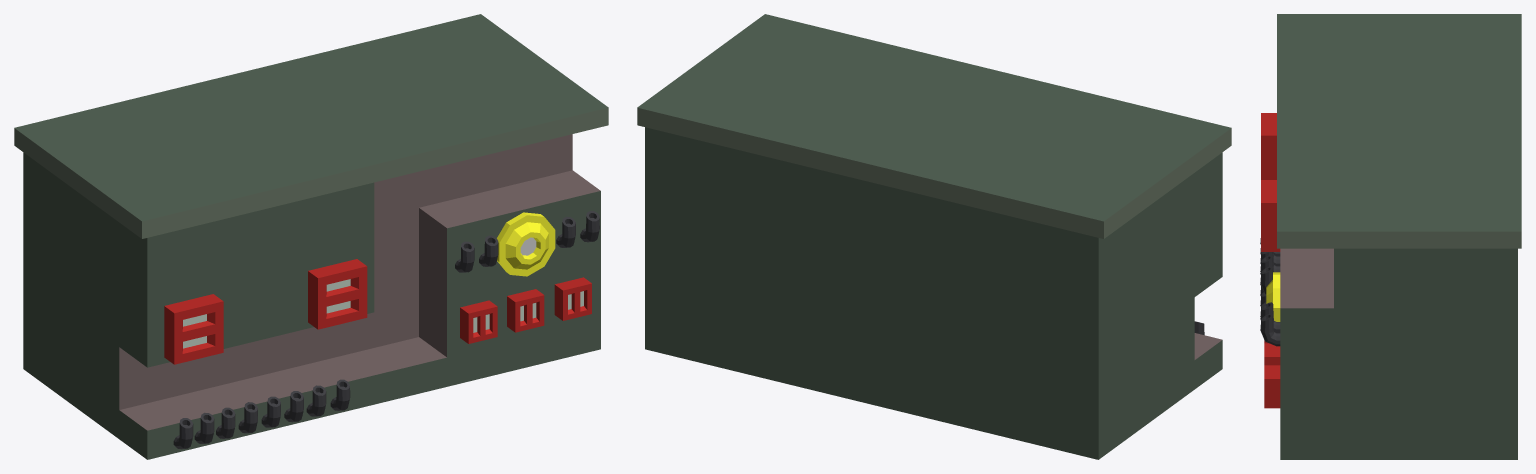
Rendered from HouseBlock8.fbx.
The picture shows the model from 3 angles, left to right: view 1: azimuth 30°, elevation 25°; view 2: azimuth 150°, elevation 25°; view 3: azimuth 270°, elevation 25°; orthographic projection. The views are drawn at different scales.
Visible parts, largest first — view 1: HouseBlock7; view 2: HouseBlock7; view 3: HouseBlock7.
Part boxes in pixels (box(x1,y1,x2,y2)): HouseBlock7: box(14, 14, 608, 459); HouseBlock7: box(637, 14, 1231, 459); HouseBlock7: box(1260, 14, 1521, 459).
Bounding box in the file's own units: 10234 × 5061 × 5185.
